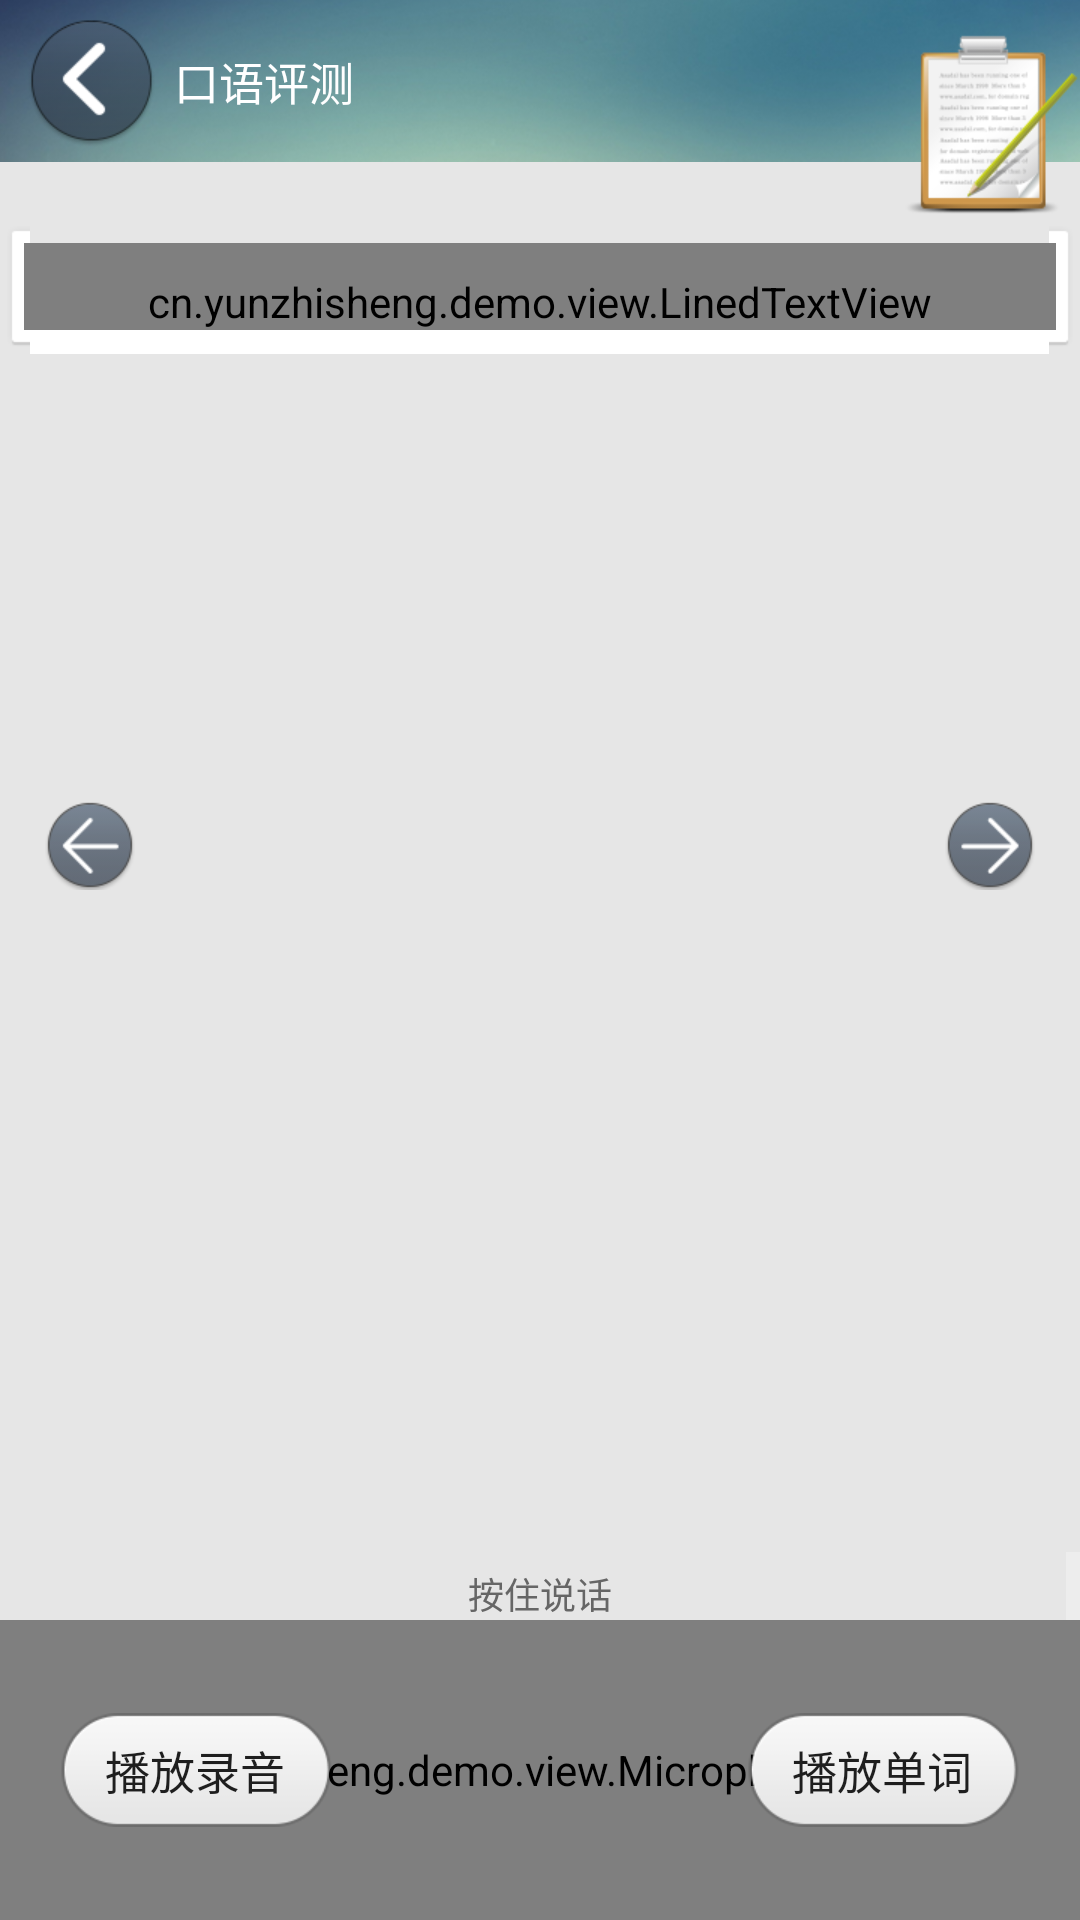

Icon click points for this 1080 × 1920 phone screenshot, format (x=x, y=y):
back: (x=91, y=80)
next: (x=990, y=846)
pre: (x=90, y=846)
